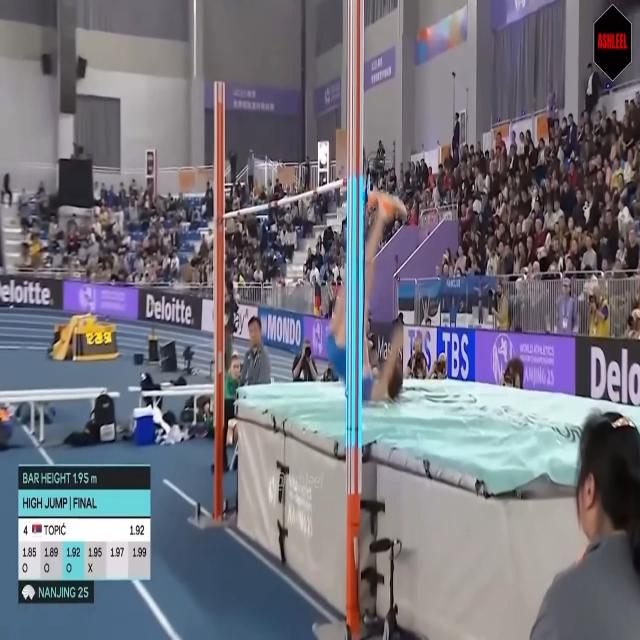land: (324, 186, 408, 404)
